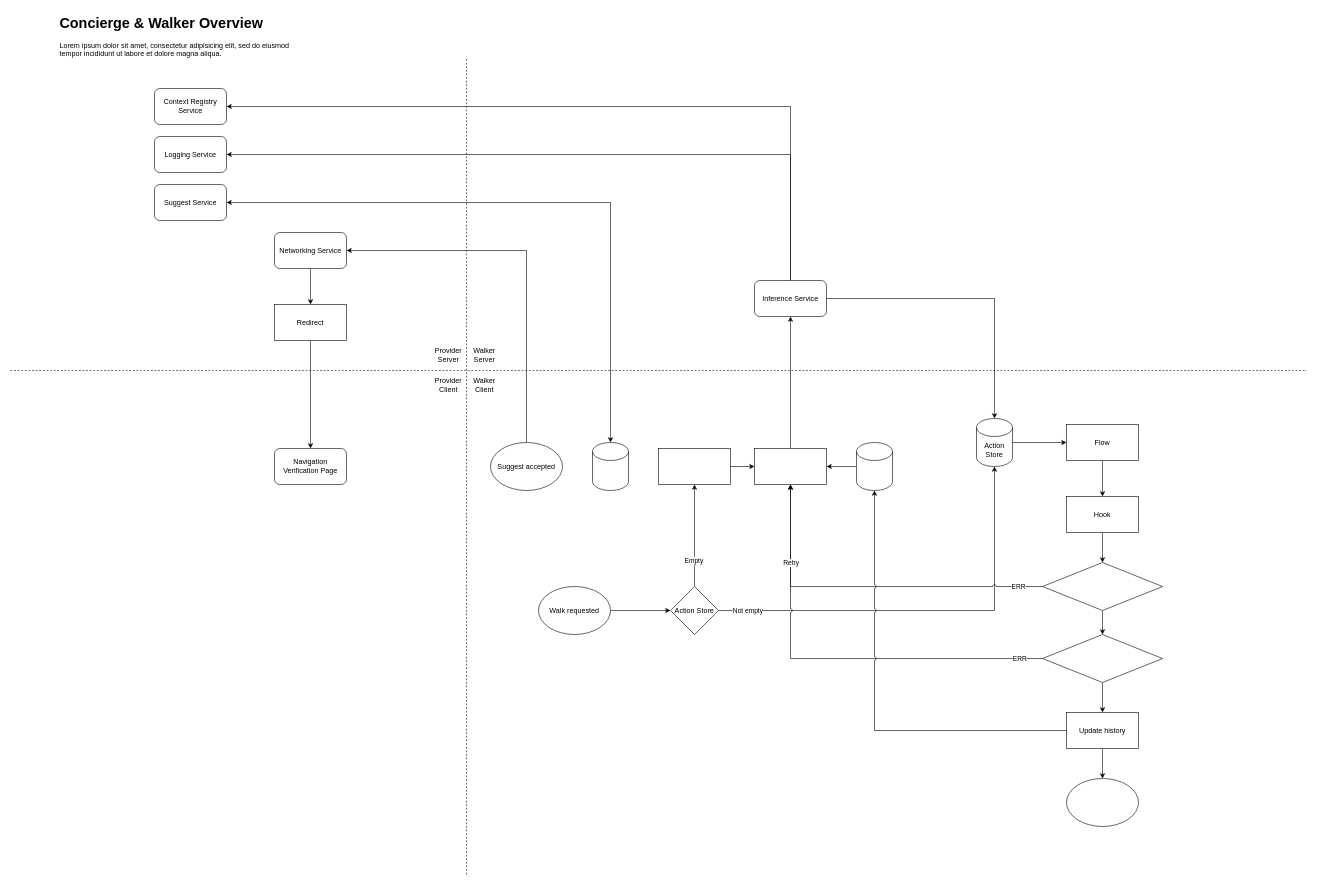
Some shapes in this 1318 by 886 pixel diagram are drawn without their labels. The shapes that lost their labels are listed below. From the top down, each one's box as (x1, y1, x2, y2) in pixels, then its label:
(592, 442, 628, 490): Suggest Store
(658, 448, 730, 484): Map
(754, 448, 826, 484): Request
(856, 442, 892, 490): History Store
(1042, 562, 1162, 610): ITEM_NOT_FOUND
(1042, 634, 1162, 682): FAILED_FLOW_BODY_SCHEMA
(1066, 778, 1138, 826): Walk ended
